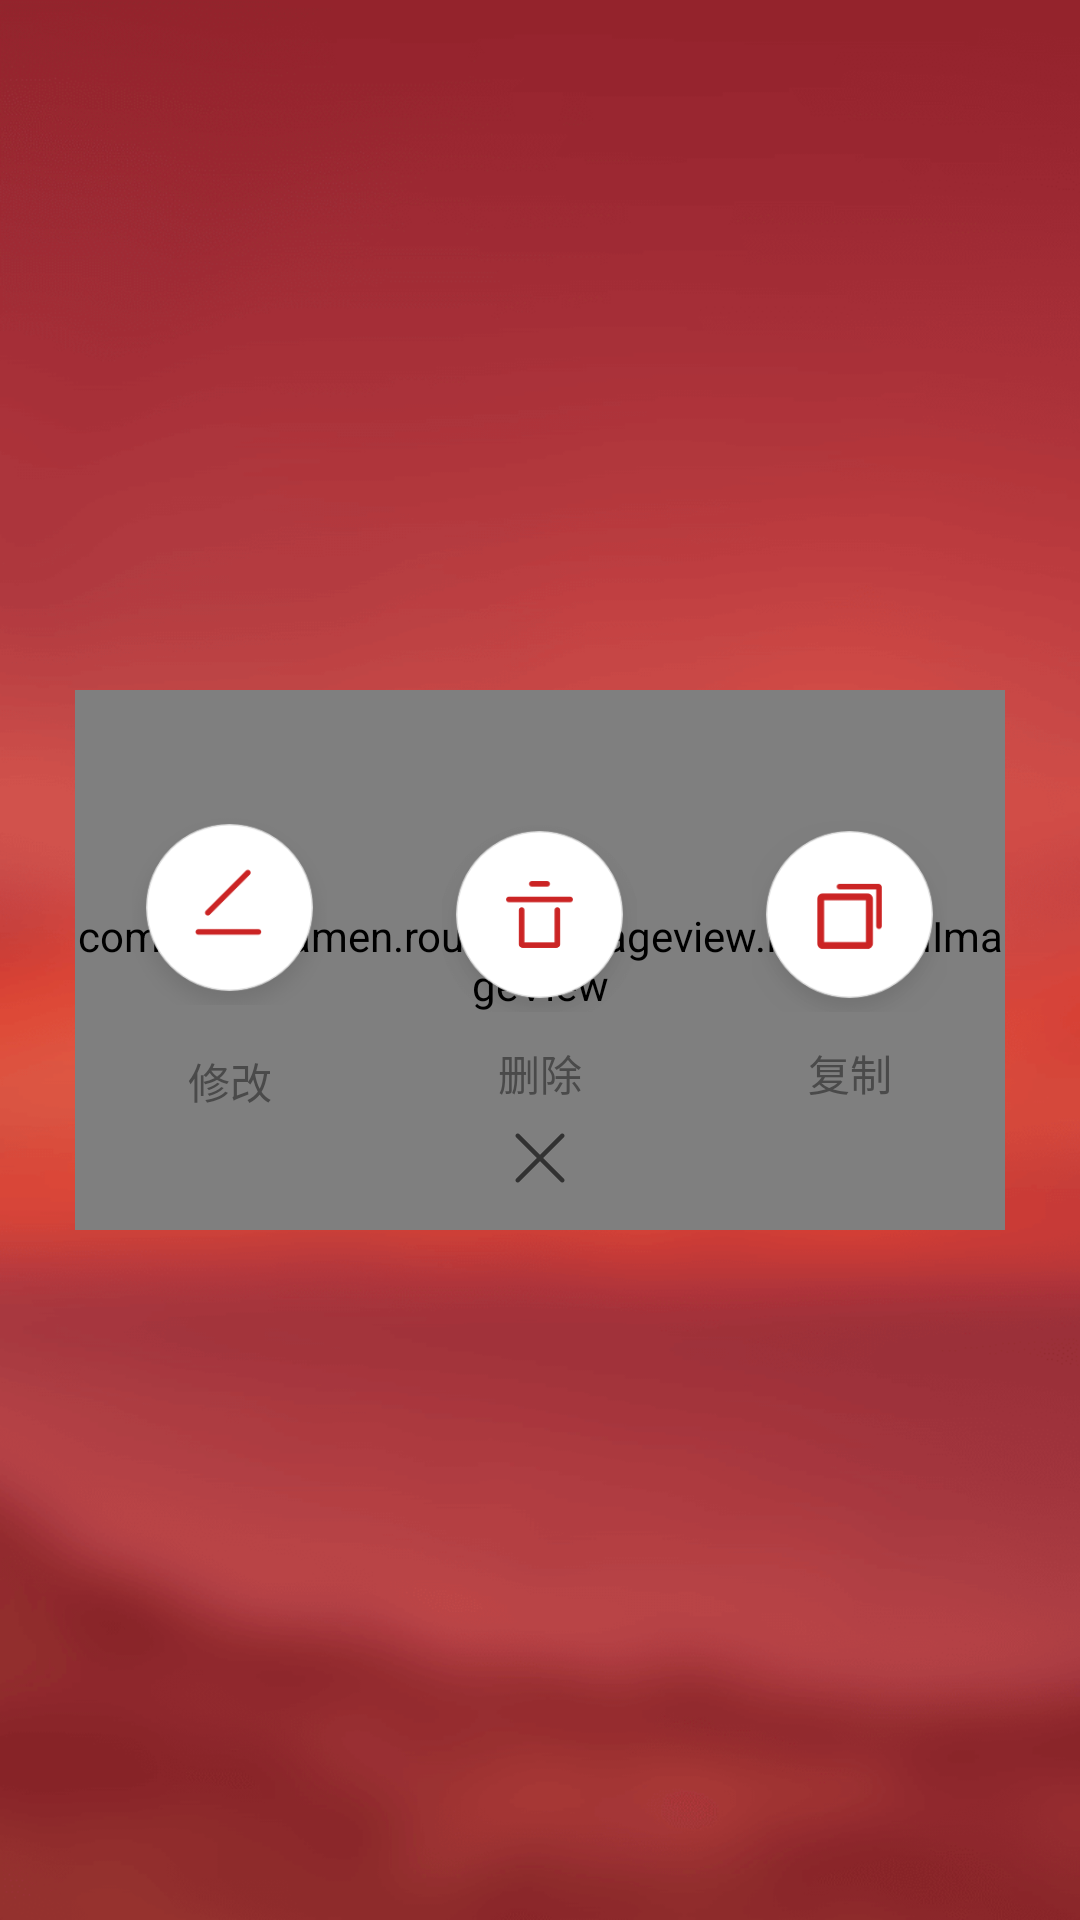

Icons on this 1080px×1920px Android screen, each with its box as (x1, y1, x2, y2):
close: (515, 1133, 565, 1183)
modify: (132, 824, 313, 991)
